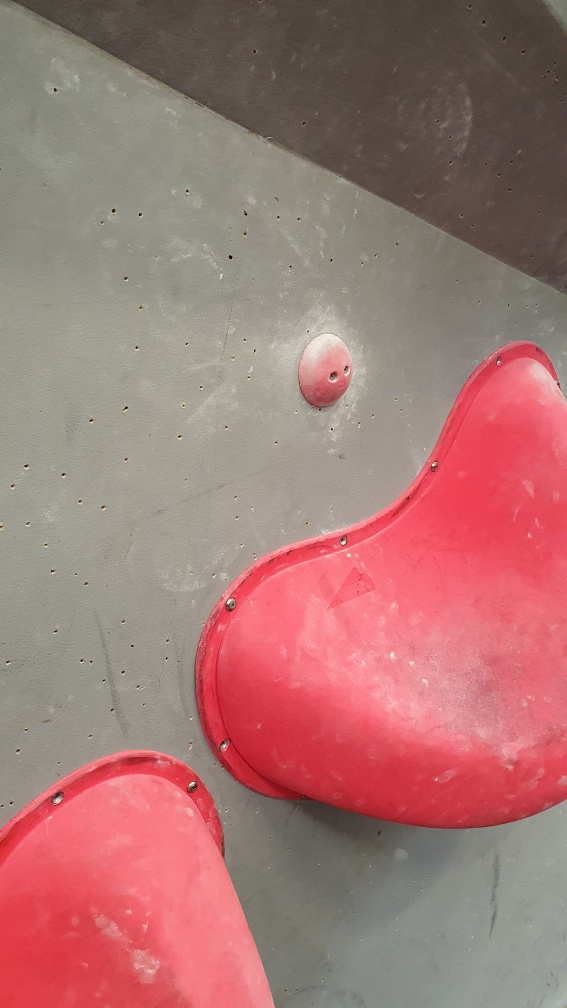Sloper: (285, 330, 358, 415)
